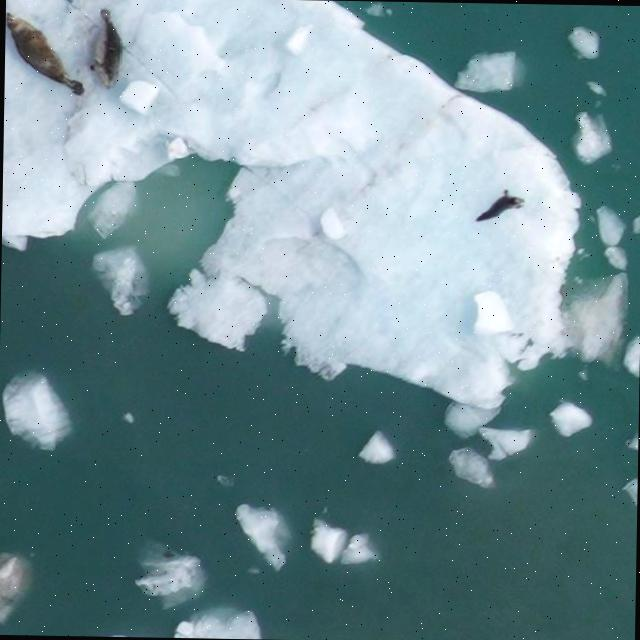seal: (5, 12, 82, 91), (90, 7, 122, 86), (474, 192, 522, 221)
